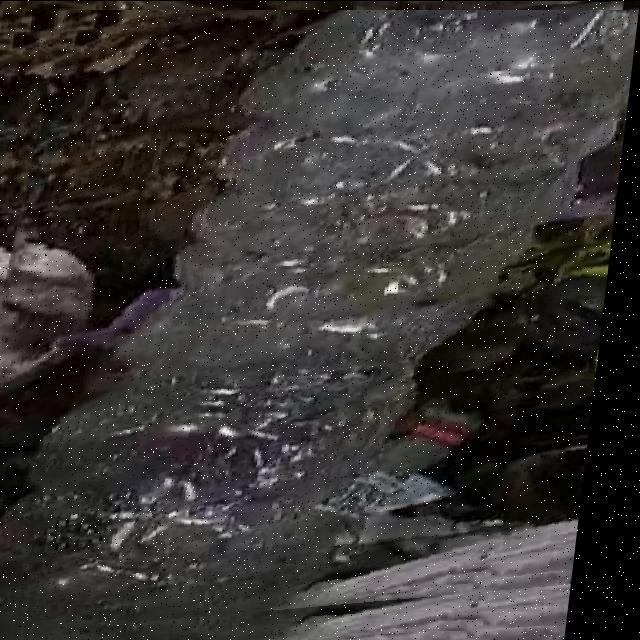plasticbottle: (0, 9, 639, 640)
